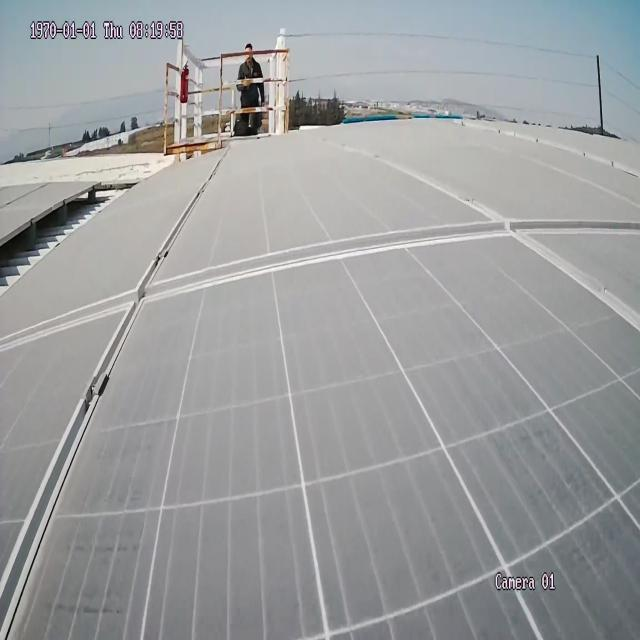interior panel: (0, 123, 640, 640)
outher panel: (0, 180, 137, 302)
